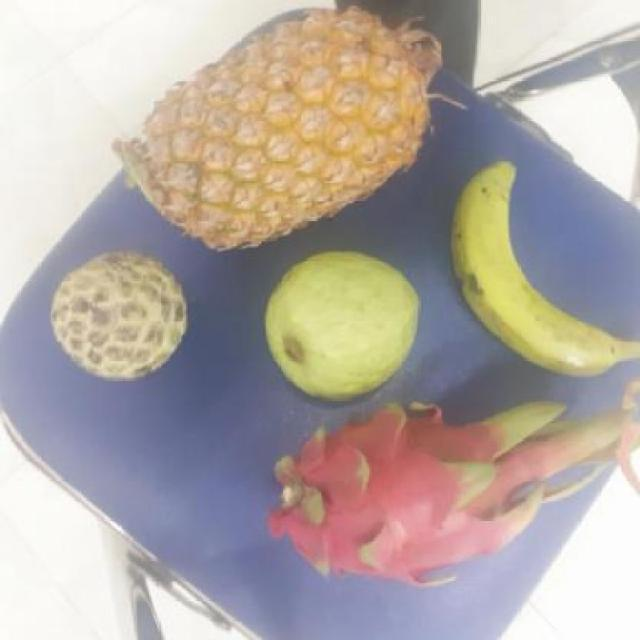banana: (450, 161, 636, 381)
dragon fruit: (270, 398, 553, 587)
guava: (266, 255, 423, 400)
pineapple: (128, 9, 428, 249)
sugar apple: (53, 254, 193, 378)
